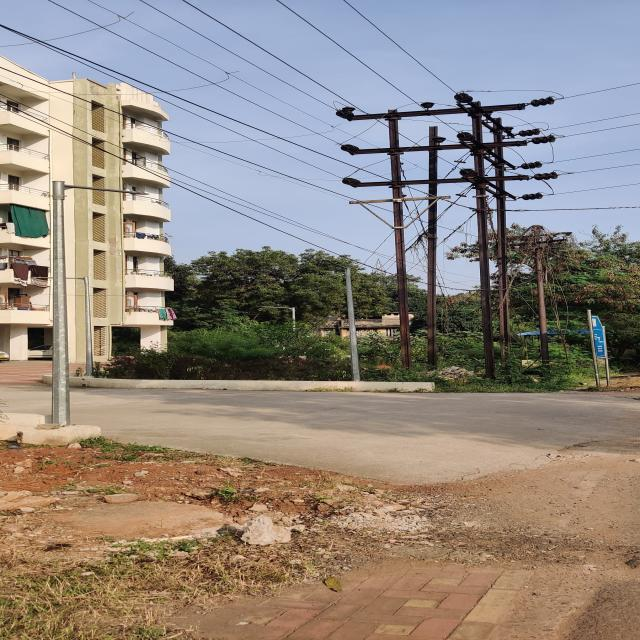Devakanchan tree: (195, 246, 353, 334)
